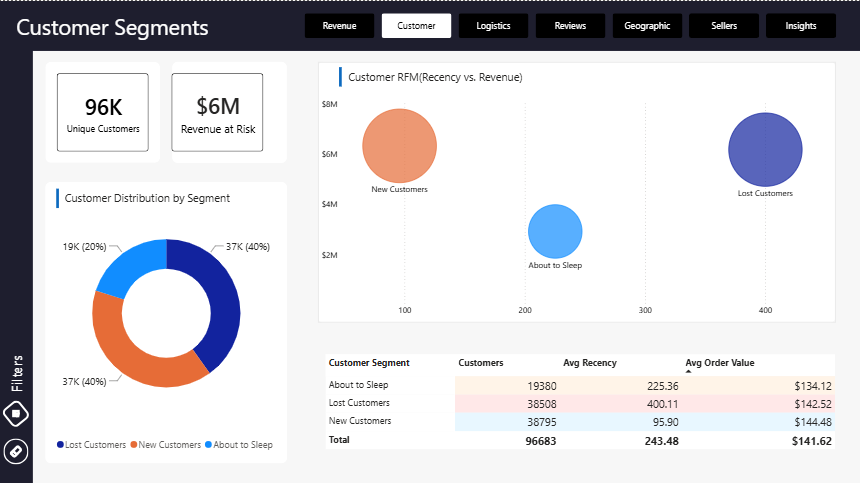

This screenshot's page, from the dashboard's own definition file:
{"tool":"powerbi","page":{"name":"Customer","canvas":[1280,720],"ordinal":1},"visuals":[{"type":"shape","box":[0,0,51.7,720],"z":0,"group":"g1"},{"type":"shape","box":[473.3,90,766.7,386.7],"z":0},{"type":"shape","box":[0,0,1280,74],"z":1000,"group":"g1"},{"type":"shape","box":[70,268.3,358.3,416.7],"z":1000},{"type":"textbox","box":[22,10,322,54],"z":2000,"group":"g1"},{"type":"shape","box":[258.2,90,170,150],"z":2000},{"type":"shape","box":[70.8,89.9,170.3,149.8],"z":3000},{"type":"actionButton","box":[7.1,647.1,37.1,38.6],"z":3000,"group":"g1"},{"type":"cardVisual","fields":{"Data":["olist_orders_dataset.Unique Customers"]},"box":[70.7,90,170,150],"z":4000},{"type":"actionButton","box":[4.1,576.2,45,70.8],"z":4000,"group":"g1"},{"type":"pageNavigator","box":[454.3,18.6,791.4,37.1],"z":5000,"group":"g1"},{"type":"donutChart","fields":{"Y":["olist_orders_dataset.Unique Customers"],"Category":["v_rfm_analysis.Customer Segment"]},"box":[70,278.3,358.3,398.3],"z":5000},{"type":"scatterChart","fields":{"Category":["v_rfm_analysis.Customer Segment"],"Series":["v_rfm_analysis.Customer Segment"],"X":["v_rfm_analysis.recency"],"Size":["CountNonNull(customers_dataset.customer_unique_id)"],"Y":["olist_orders_dataset.Total Net Revenue"]},"box":[473.3,138.3,766.7,338.3],"z":6000},{"type":"actionButton","box":[5.4,508.1,42.2,88.5],"z":6000,"group":"g1"},{"type":"cardVisual","fields":{"Data":["olist_orders_dataset.Revenue at Risk"]},"box":[240,90,170,150],"z":7000},{"type":"pivotTable","fields":{"Rows":["v_rfm_analysis.Customer Segment"],"Values":["CountNonNull(customers_dataset.customer_unique_id)","Avg(v_rfm_analysis.recency)","Avg(v_rfm_analysis.total_orders_value)"]},"box":[480,518.3,766.7,186.7],"z":8000},{"type":"group","id":"g1","title":"Group 2","box":[0,0,1280,720],"z":9000},{"type":"textbox","box":[515,96.2,271.2,38.7],"z":10000,"group":"g2"},{"type":"textbox","box":[93.8,275,271.2,38.8],"z":10000},{"type":"shape","box":[81.2,278.8,12.5,28.8],"z":11000},{"type":"shape","box":[356.2,98.7,302.5,28.8],"z":12000,"group":"g2"},{"type":"group","id":"g2","title":"Group 3","box":[356.2,96.2,430,38.7],"z":13000}]}

Visuals, with their boxes in screenshot pixels (x1, y1, x2, y2), scaled from the page's 1280x720 canvas onto the 860x483 screenshot:
shape: left=0, top=0, right=35, bottom=482
shape: left=318, top=60, right=833, bottom=320
shape: left=0, top=0, right=859, bottom=50
shape: left=47, top=180, right=288, bottom=460
textbox: left=15, top=7, right=231, bottom=43
shape: left=173, top=60, right=288, bottom=161
shape: left=48, top=60, right=162, bottom=161
actionButton: left=5, top=434, right=30, bottom=460
cardVisual - olist_orders_dataset.Unique Customers: left=48, top=60, right=162, bottom=161
actionButton: left=3, top=387, right=33, bottom=434
pageNavigator: left=305, top=12, right=837, bottom=37
donutChart - olist_orders_dataset.Unique Customers x v_rfm_analysis.Customer Segment: left=47, top=187, right=288, bottom=454
scatterChart - v_rfm_analysis.Customer Segment x v_rfm_analysis.Customer Segment: left=318, top=93, right=833, bottom=320
actionButton: left=4, top=341, right=32, bottom=400
cardVisual - olist_orders_dataset.Revenue at Risk: left=161, top=60, right=275, bottom=161
pivotTable - v_rfm_analysis.Customer Segment x CountNonNull(customers_dataset.customer_unique_id): left=322, top=348, right=838, bottom=473
"Group 2" group: left=0, top=0, right=859, bottom=482
textbox: left=346, top=65, right=528, bottom=90
textbox: left=63, top=184, right=245, bottom=211
shape: left=55, top=187, right=63, bottom=206
shape: left=239, top=66, right=443, bottom=86
"Group 3" group: left=239, top=65, right=528, bottom=90
